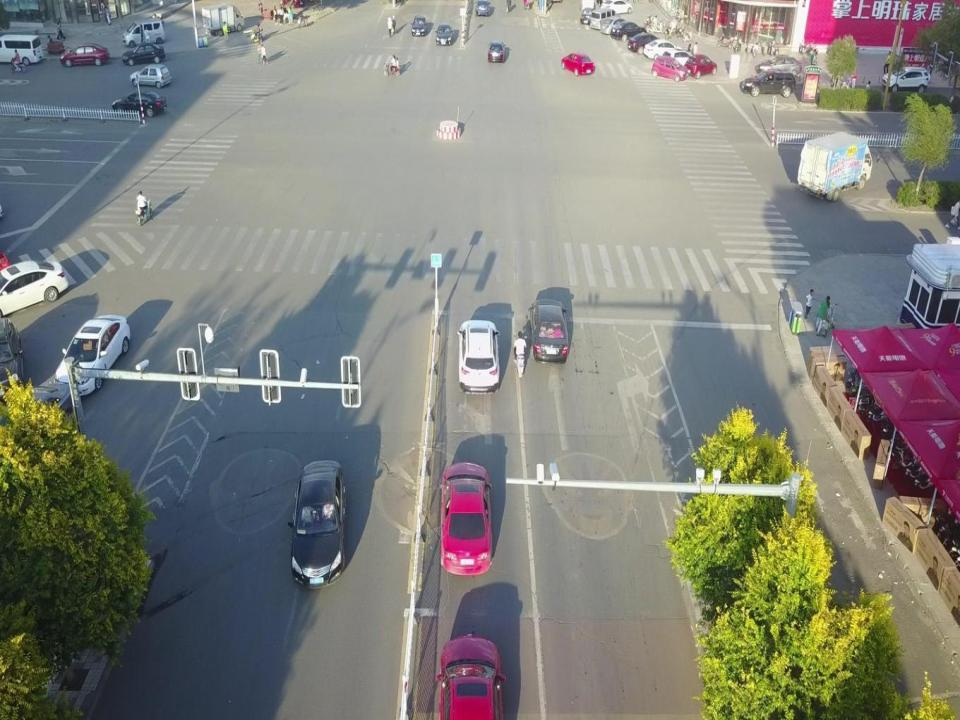car: (288, 458, 344, 588), (0, 381, 74, 468), (438, 461, 493, 577), (54, 314, 131, 396), (436, 632, 505, 720), (0, 261, 68, 319), (458, 319, 501, 394), (528, 300, 568, 364), (0, 316, 23, 406), (740, 68, 796, 97), (112, 89, 167, 117), (881, 65, 930, 94), (754, 53, 802, 82), (60, 43, 109, 66), (130, 63, 172, 89), (651, 55, 688, 82), (121, 44, 166, 65), (627, 31, 665, 55), (644, 38, 682, 61), (685, 53, 718, 78), (560, 52, 595, 75), (662, 48, 694, 72), (611, 21, 645, 41), (600, 18, 633, 35), (600, 0, 633, 13), (435, 23, 454, 44), (488, 41, 506, 62), (411, 14, 427, 37), (580, 7, 596, 26), (475, 0, 491, 15)
truck: (797, 131, 879, 202)
van: (201, 4, 245, 36), (121, 19, 166, 49), (0, 34, 43, 63), (590, 8, 621, 30)
